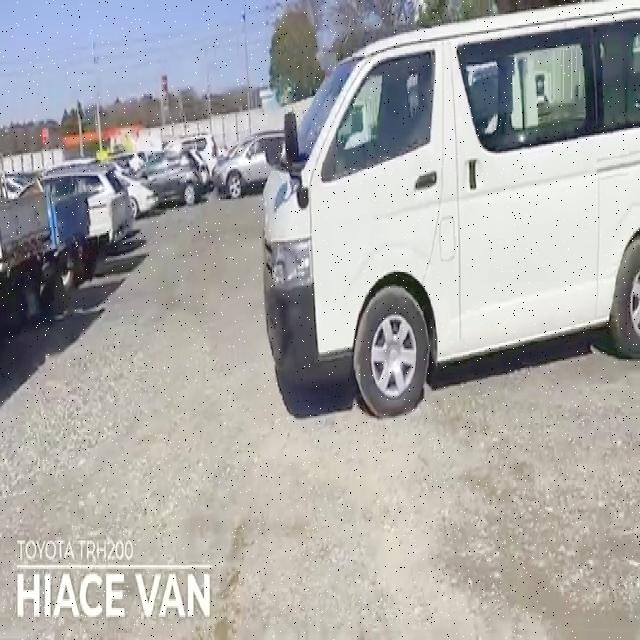Van: (260, 9, 640, 411)
